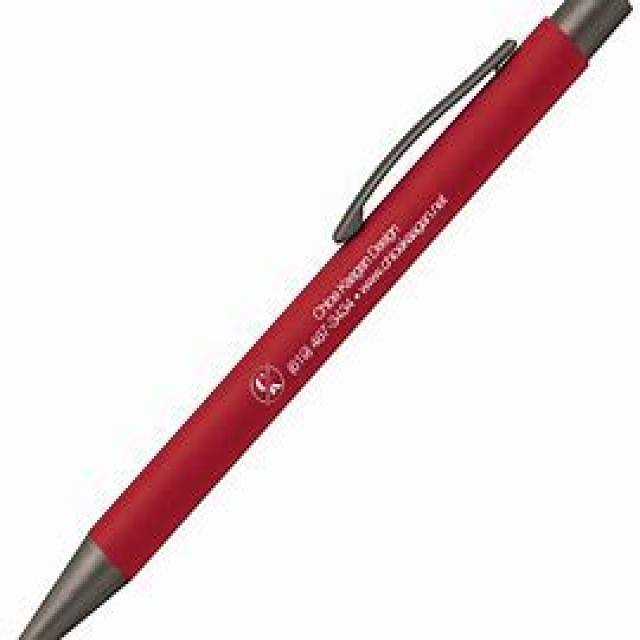pen: (14, 0, 635, 637)
